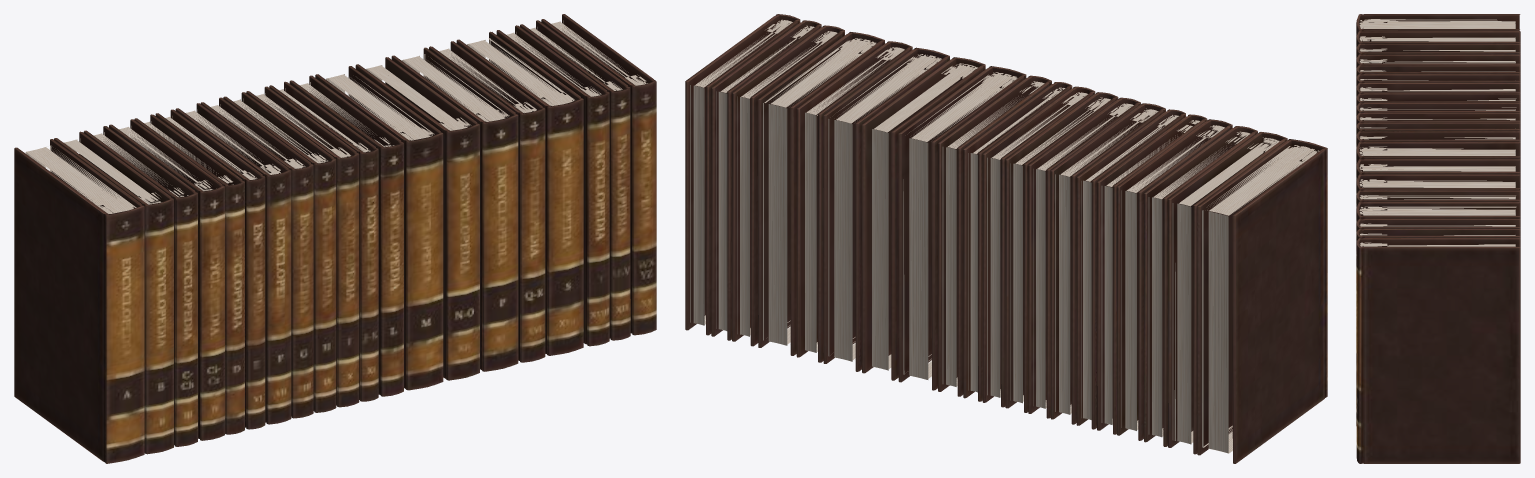
Rendered from books.glb.
The picture shows the model from 3 angles, left to right: view 1: azimuth 30°, elevation 25°; view 2: azimuth 150°, elevation 25°; view 3: azimuth 270°, elevation 25°; orthographic projection. The views are drawn at different scales.
Visible parts, largest first — view 1: book_encyclopedia_set_01_book01, book_encyclopedia_set_01_book13, book_encyclopedia_set_01_book15, book_encyclopedia_set_01_book17, book_encyclopedia_set_01_book14, book_encyclopedia_set_01_book02, book_encyclopedia_set_01_book16, book_encyclopedia_set_01_book04, book_encyclopedia_set_01_book20, book_encyclopedia_set_01_book18, book_encyclopedia_set_01_book07, book_encyclopedia_set_01_book12 (+8 smaller); view 2: book_encyclopedia_set_01_book01, book_encyclopedia_set_01_book13, book_encyclopedia_set_01_book17, book_encyclopedia_set_01_book15, book_encyclopedia_set_01_book14, book_encyclopedia_set_01_book02, book_encyclopedia_set_01_book16, book_encyclopedia_set_01_book04, book_encyclopedia_set_01_book20, book_encyclopedia_set_01_book07, book_encyclopedia_set_01_book18, book_encyclopedia_set_01_book12 (+8 smaller); view 3: book_encyclopedia_set_01_book20, book_encyclopedia_set_01_book17, book_encyclopedia_set_01_book13, book_encyclopedia_set_01_book01, book_encyclopedia_set_01_book15, book_encyclopedia_set_01_book14, book_encyclopedia_set_01_book02, book_encyclopedia_set_01_book16, book_encyclopedia_set_01_book03, book_encyclopedia_set_01_book12, book_encyclopedia_set_01_book04, book_encyclopedia_set_01_book07 (+8 smaller).
Part boxes in pixels (x1=…): book_encyclopedia_set_01_book01: x1=14, y1=139, x2=144, y2=463; book_encyclopedia_set_01_book13: x1=315, y1=66, x2=443, y2=390; book_encyclopedia_set_01_book15: x1=391, y1=47, x2=518, y2=371; book_encyclopedia_set_01_book17: x1=456, y1=31, x2=583, y2=355; book_encyclopedia_set_01_book14: x1=355, y1=57, x2=479, y2=380; book_encyclopedia_set_01_book02: x1=54, y1=131, x2=173, y2=454; book_encyclopedia_set_01_book16: x1=429, y1=41, x2=545, y2=362; book_encyclopedia_set_01_book04: x1=109, y1=119, x2=224, y2=440; book_encyclopedia_set_01_book20: x1=541, y1=14, x2=656, y2=335; book_encyclopedia_set_01_book18: x1=496, y1=25, x2=609, y2=346; book_encyclopedia_set_01_book07: x1=175, y1=103, x2=291, y2=424; book_encyclopedia_set_01_book12: x1=289, y1=75, x2=403, y2=396; book_encyclopedia_set_01_book01: x1=1197, y1=139, x2=1327, y2=463; book_encyclopedia_set_01_book13: x1=898, y1=66, x2=1026, y2=390; book_encyclopedia_set_01_book17: x1=757, y1=32, x2=884, y2=355; book_encyclopedia_set_01_book15: x1=823, y1=47, x2=949, y2=371; book_encyclopedia_set_01_book14: x1=861, y1=57, x2=985, y2=380; book_encyclopedia_set_01_book02: x1=1168, y1=132, x2=1287, y2=454; book_encyclopedia_set_01_book16: x1=796, y1=41, x2=912, y2=362; book_encyclopedia_set_01_book04: x1=1117, y1=119, x2=1232, y2=440; book_encyclopedia_set_01_book20: x1=685, y1=14, x2=800, y2=335; book_encyclopedia_set_01_book07: x1=1050, y1=103, x2=1165, y2=424; book_encyclopedia_set_01_book18: x1=732, y1=25, x2=844, y2=346; book_encyclopedia_set_01_book12: x1=938, y1=75, x2=1051, y2=396; book_encyclopedia_set_01_book20: x1=1356, y1=238, x2=1520, y2=463; book_encyclopedia_set_01_book17: x1=1356, y1=202, x2=1520, y2=425; book_encyclopedia_set_01_book13: x1=1356, y1=142, x2=1520, y2=189; book_encyclopedia_set_01_book01: x1=1356, y1=14, x2=1520, y2=35; book_encyclopedia_set_01_book15: x1=1356, y1=174, x2=1520, y2=194; book_encyclopedia_set_01_book14: x1=1356, y1=159, x2=1520, y2=181; book_encyclopedia_set_01_book02: x1=1356, y1=30, x2=1520, y2=47; book_encyclopedia_set_01_book16: x1=1356, y1=190, x2=1520, y2=219; book_encyclopedia_set_01_book03: x1=1356, y1=43, x2=1520, y2=58; book_encyclopedia_set_01_book12: x1=1356, y1=131, x2=1520, y2=190; book_encyclopedia_set_01_book04: x1=1356, y1=54, x2=1520, y2=77; book_encyclopedia_set_01_book07: x1=1356, y1=82, x2=1520, y2=97.
Bounding box in the file's own units: 0.5513 × 0.2374 × 0.1636.
2 materials, 2 textured.
